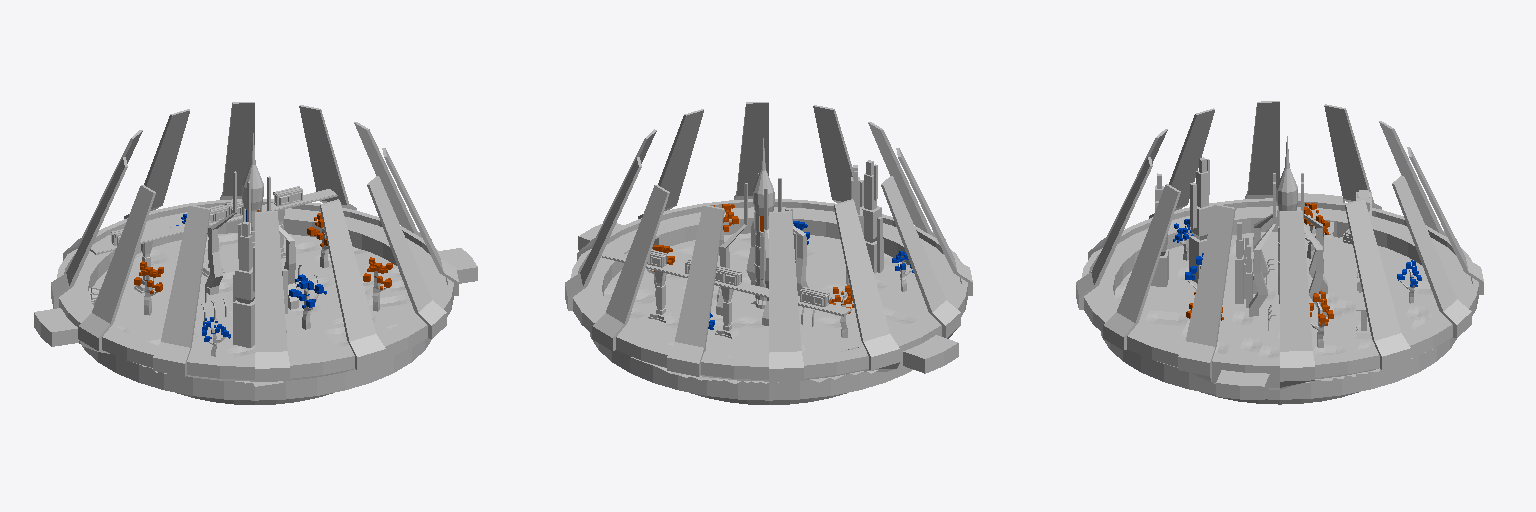
The model's file is InnerArena.obj.
3 views of the same model, side by side, from view 1: azimuth 30°, elevation 25°; view 2: azimuth 150°, elevation 25°; view 3: azimuth 270°, elevation 25° (orthographic).
Visible parts, largest first — view 1: Arena_Cylinder.009, Plane_Plane.001, Tower_Cube.001, Cube.030_Cube.031, Cube.018, Cube.015_Cube.011, Cube.017_Cube.014, Cube.021; view 2: Arena_Cylinder.009, Plane_Plane.001, Tower_Cube.001, Cube.008_Cube.017, Cube.018, Cube.006_Cube.015, Cube.003_Cube; view 3: Arena_Cylinder.009, Plane_Plane.001, Tower_Cube.001, Cube.030_Cube.031, Cube.008_Cube.017, Cube.001_Cube.003, Cube.016_Cube.013.
Boxes of the visible parts, x1,y1,x2,y2 form: Arena_Cylinder.009: [34, 102, 477, 404]; Plane_Plane.001: [93, 233, 413, 386]; Tower_Cube.001: [205, 133, 298, 309]; Cube.030_Cube.031: [233, 221, 254, 347]; Cube.018: [90, 189, 337, 254]; Cube.015_Cube.011: [289, 274, 326, 329]; Cube.017_Cube.014: [134, 261, 163, 315]; Cube.021: [363, 257, 392, 311]; Arena_Cylinder.009: [565, 102, 972, 404]; Plane_Plane.001: [604, 233, 927, 383]; Tower_Cube.001: [716, 138, 808, 325]; Cube.008_Cube.017: [860, 160, 883, 273]; Cube.018: [602, 250, 851, 316]; Cube.006_Cube.015: [648, 270, 673, 322]; Cube.003_Cube: [715, 287, 739, 338]; Arena_Cylinder.009: [1076, 101, 1483, 404]; Plane_Plane.001: [1115, 232, 1438, 382]; Tower_Cube.001: [1249, 136, 1327, 316]; Cube.030_Cube.031: [1189, 157, 1213, 283]; Cube.008_Cube.017: [1151, 173, 1168, 286]; Cube.001_Cube.003: [1235, 222, 1243, 303]; Cube.016_Cube.013: [1309, 290, 1333, 347].
Size of the model in its own units: 686 by 399 by 614.